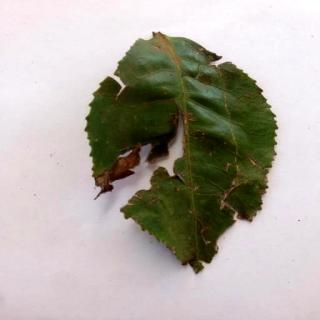Algal Leaf: (89, 32, 279, 274)
